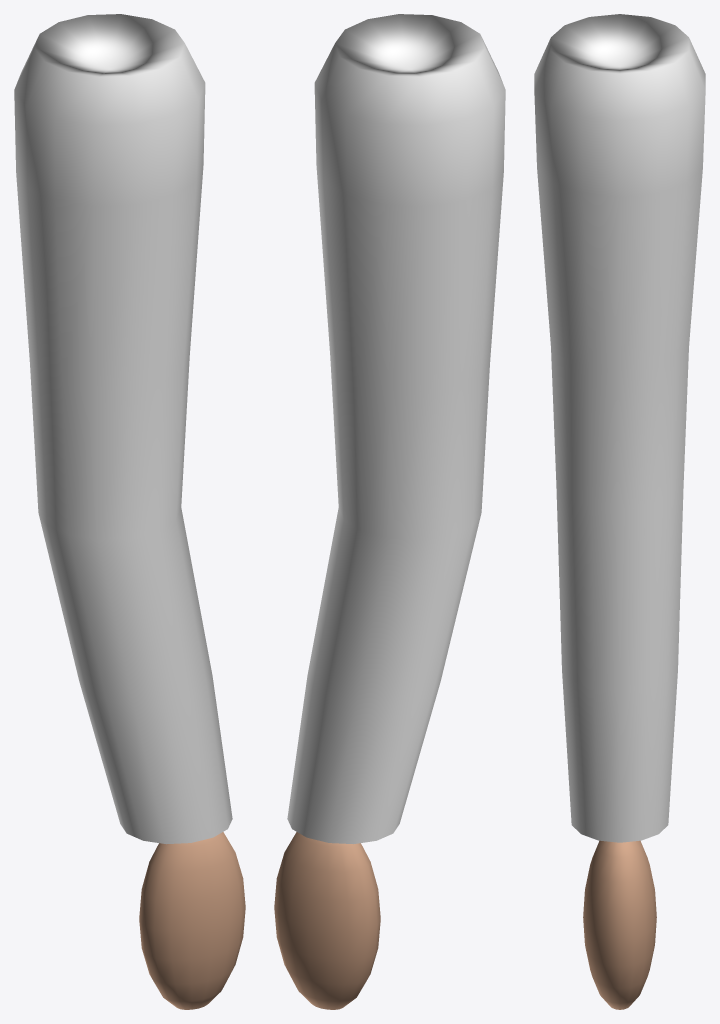
Rendered from arm.obj.
The picture shows the model from 3 angles, left to right: view 1: azimuth 30°, elevation 25°; view 2: azimuth 150°, elevation 25°; view 3: azimuth 270°, elevation 25°; orthographic projection. The views are drawn at different scales.
Parts seen in each view (by area): view 1: arm_SleevePaint, arm_Skin; view 2: arm_SleevePaint, arm_Skin; view 3: arm_SleevePaint, arm_Skin.
Boxes of the visible parts, <box> form: arm_SleevePaint: <box>14,14,232,844</box>; arm_Skin: <box>139,832,245,1009</box>; arm_SleevePaint: <box>287,14,505,844</box>; arm_Skin: <box>274,832,380,1009</box>; arm_SleevePaint: <box>534,14,705,842</box>; arm_Skin: <box>583,840,656,1009</box>.
Size of the model in its own units: 0.1653 by 0.72 by 0.1208.
Materials: 2 (2 with a texture image).
